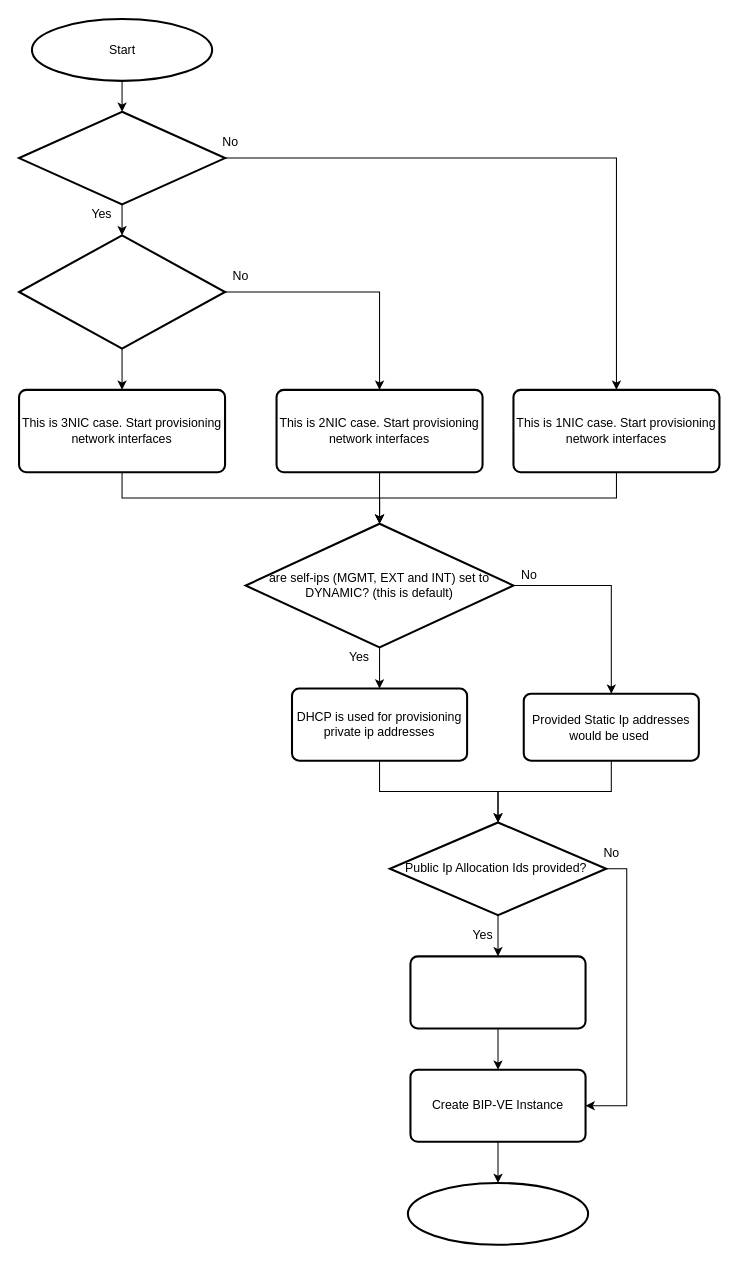
Image size: 737x1263. Some labels were removed from this diagram. The centre of each missing label's shape, as x and y in pixels:
Create Public IP address association: (x=497, y=992)
Done: (x=497, y=1213)
Is externalSubnetId provided?: (x=122, y=157)
Is internalSubnetId provided?: (x=122, y=291)
